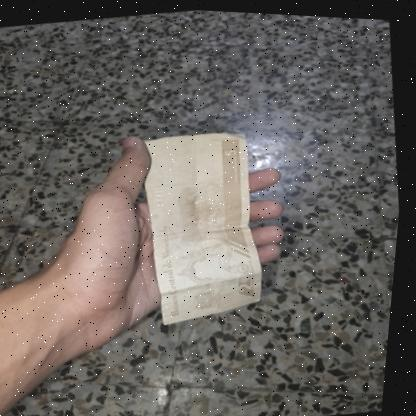vef_back: (130, 121, 282, 328)
